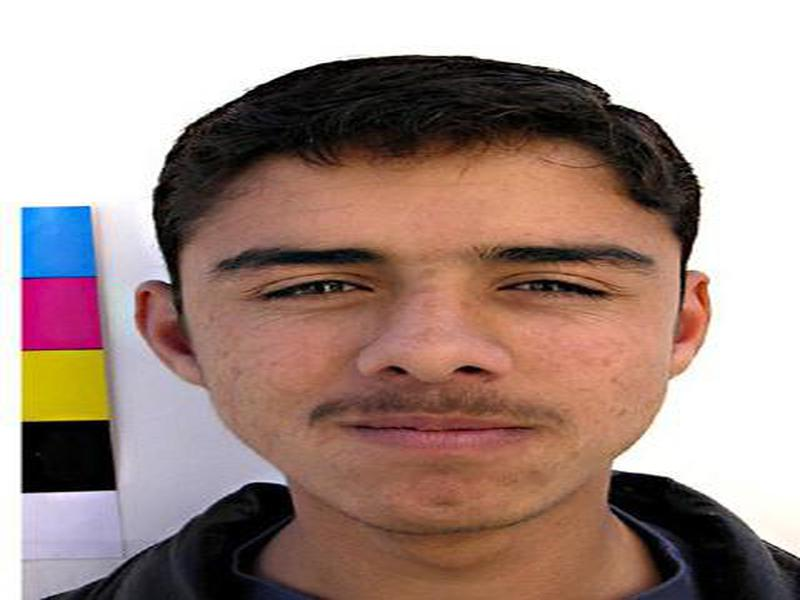without_mask: (176, 153, 676, 538)
